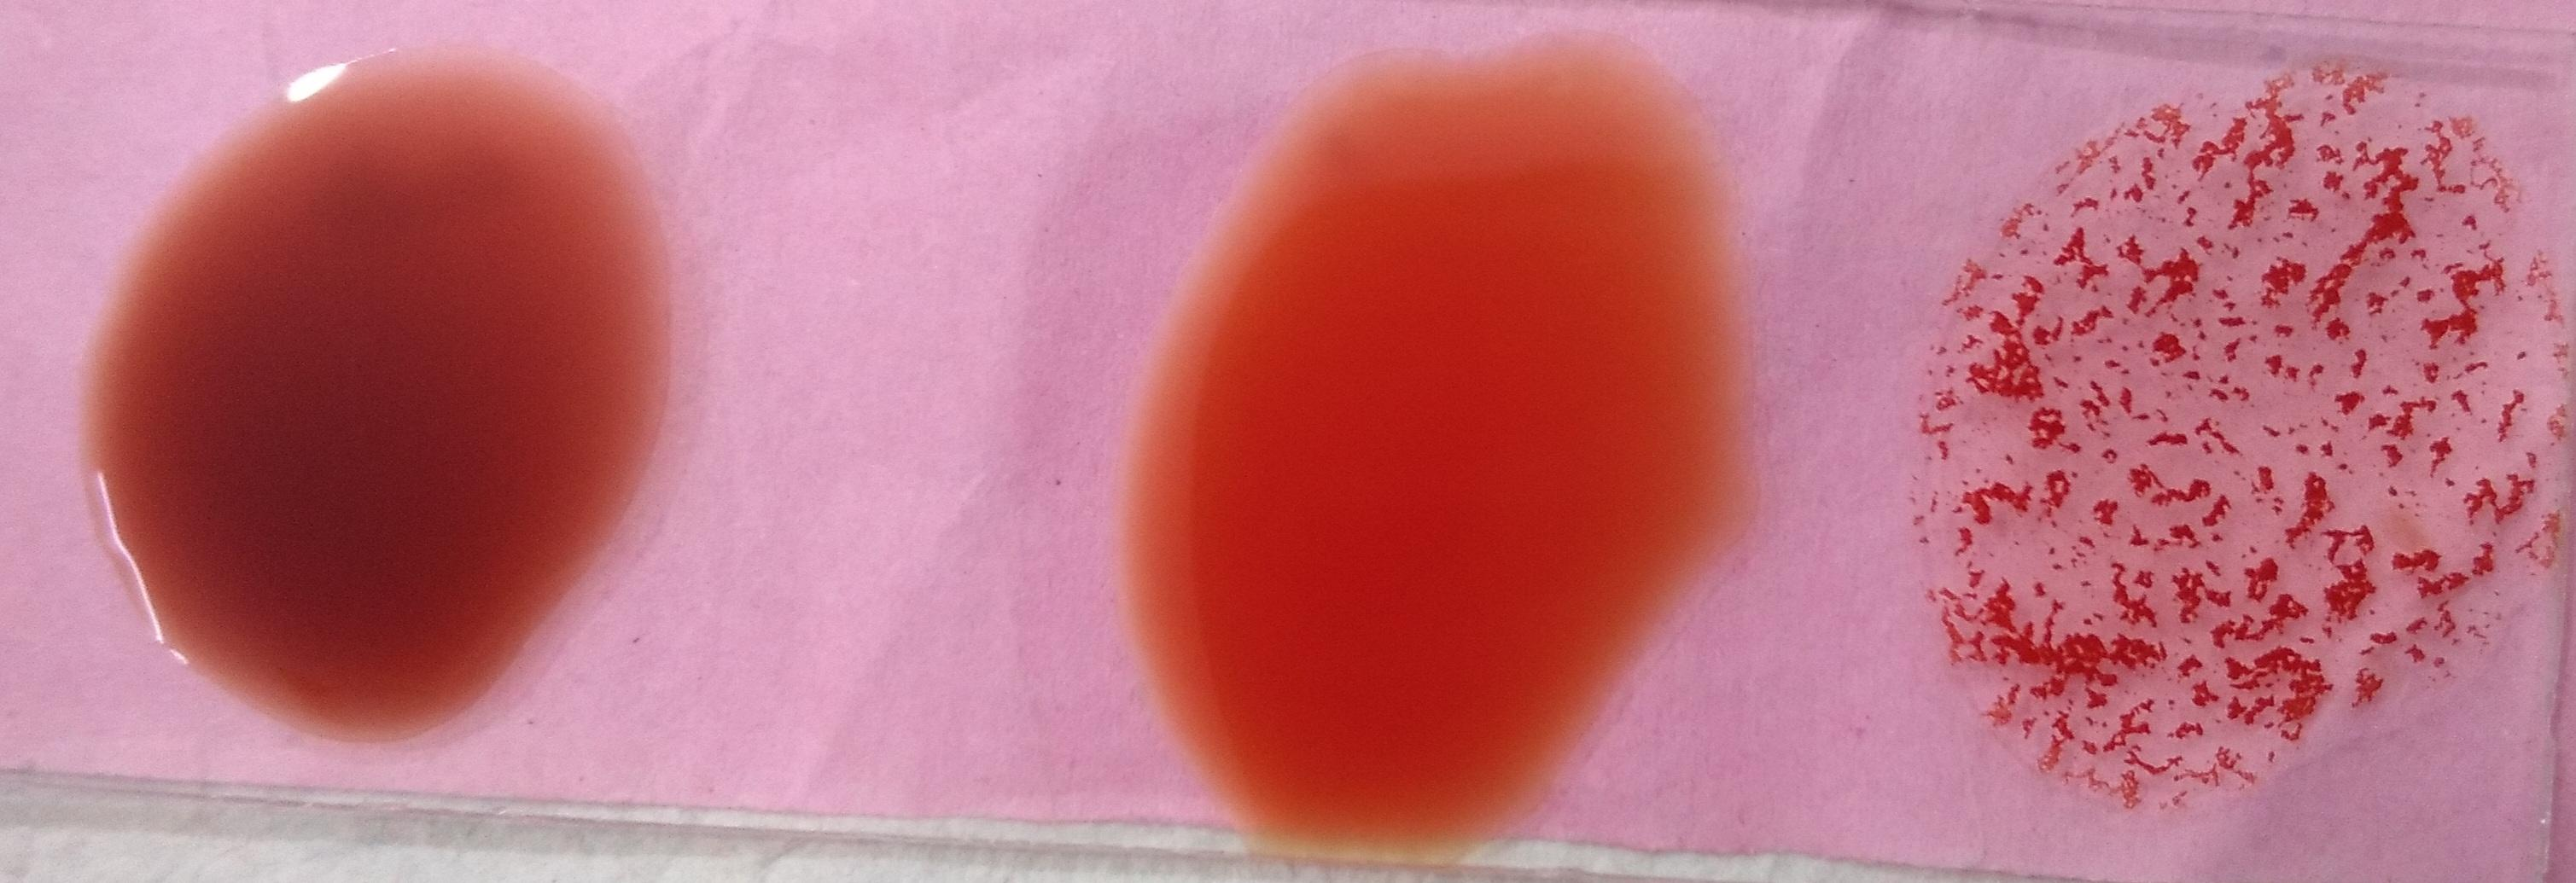D: (1909, 74, 2569, 812)
